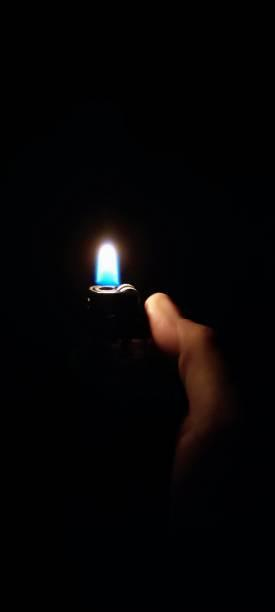Fire: (89, 234, 128, 286)
